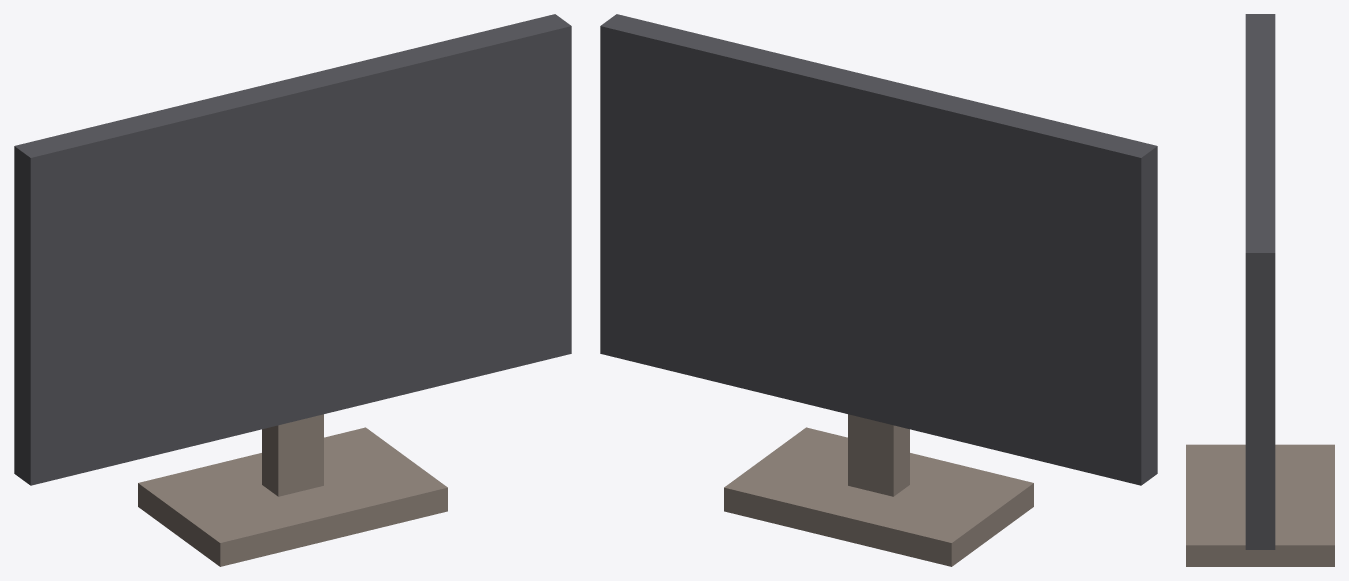
The model's file is liv_moveis_tv.glb.
The picture shows the model from 3 angles, left to right: view 1: azimuth 30°, elevation 25°; view 2: azimuth 150°, elevation 25°; view 3: azimuth 270°, elevation 25°; orthographic projection. The views are drawn at different scales.
Parts seen in each view (by area): view 1: LIV_Moveis_TV_v01; view 2: LIV_Moveis_TV_v01; view 3: LIV_Moveis_TV_v01.
Boxes of the visible parts, x1=… form: LIV_Moveis_TV_v01: x1=14, y1=14, x2=571, y2=566; LIV_Moveis_TV_v01: x1=600, y1=14, x2=1157, y2=566; LIV_Moveis_TV_v01: x1=1186, y1=14, x2=1334, y2=566.
Bounding box in the file's own units: 0.95 × 0.71 × 0.25.
